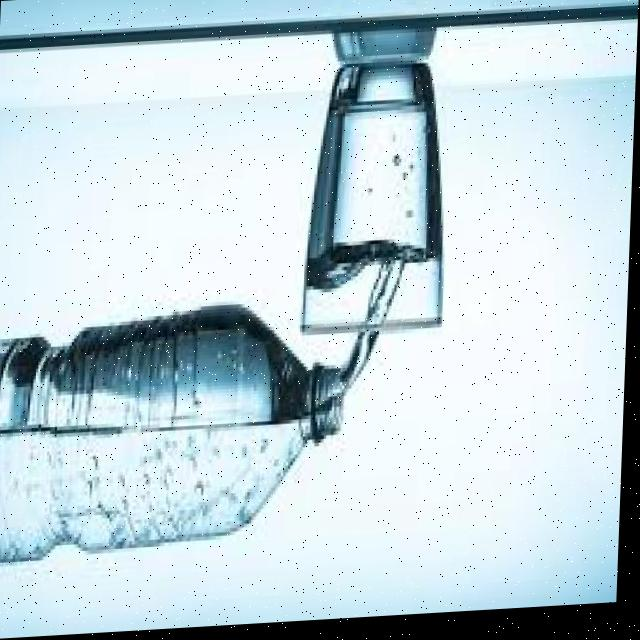bottle: (0, 288, 376, 556)
